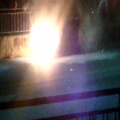fire: (29, 18, 59, 66)
